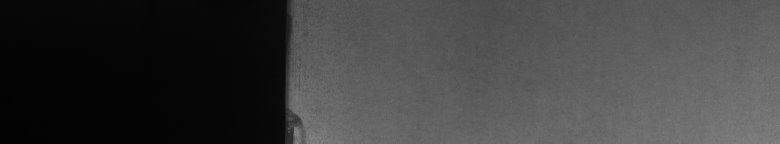hb: (296, 108, 311, 136)
